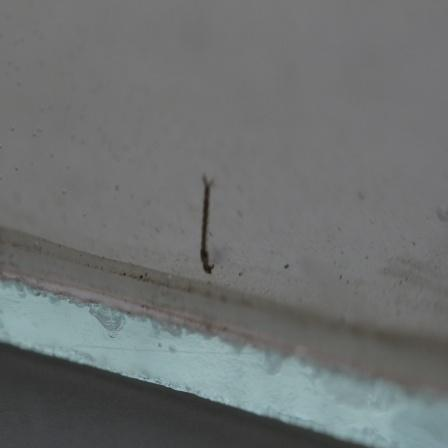Jentik-Nyamuk: (198, 169, 221, 280)
